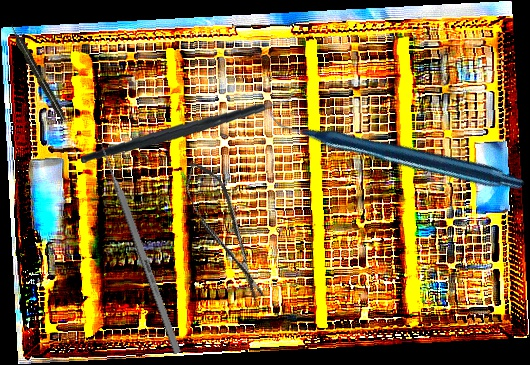Chopper: (81, 69, 300, 178)
Handpiece: (268, 15, 526, 282), (7, 22, 68, 123)
Micro Scissor: (176, 153, 274, 310)
Pusher: (94, 134, 183, 355)
